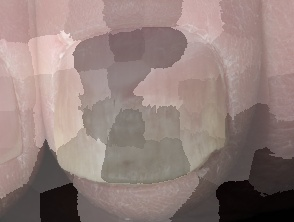Nail_psoriasis: (51, 78, 228, 186)
